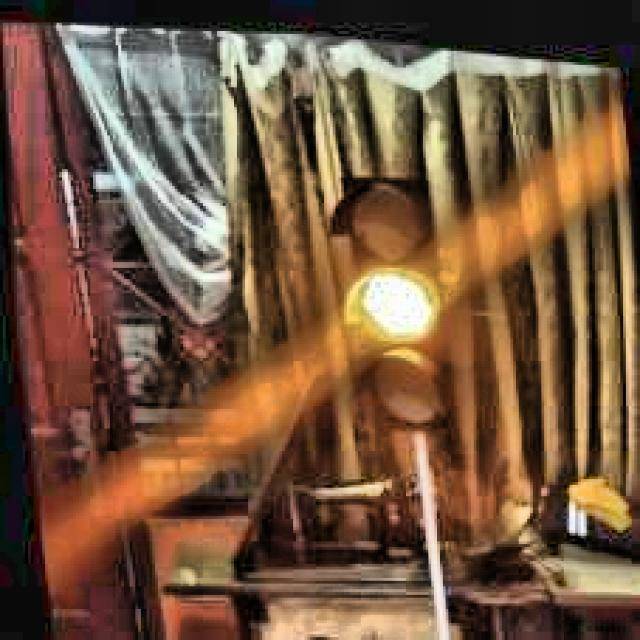yellow: (323, 160, 455, 426)
